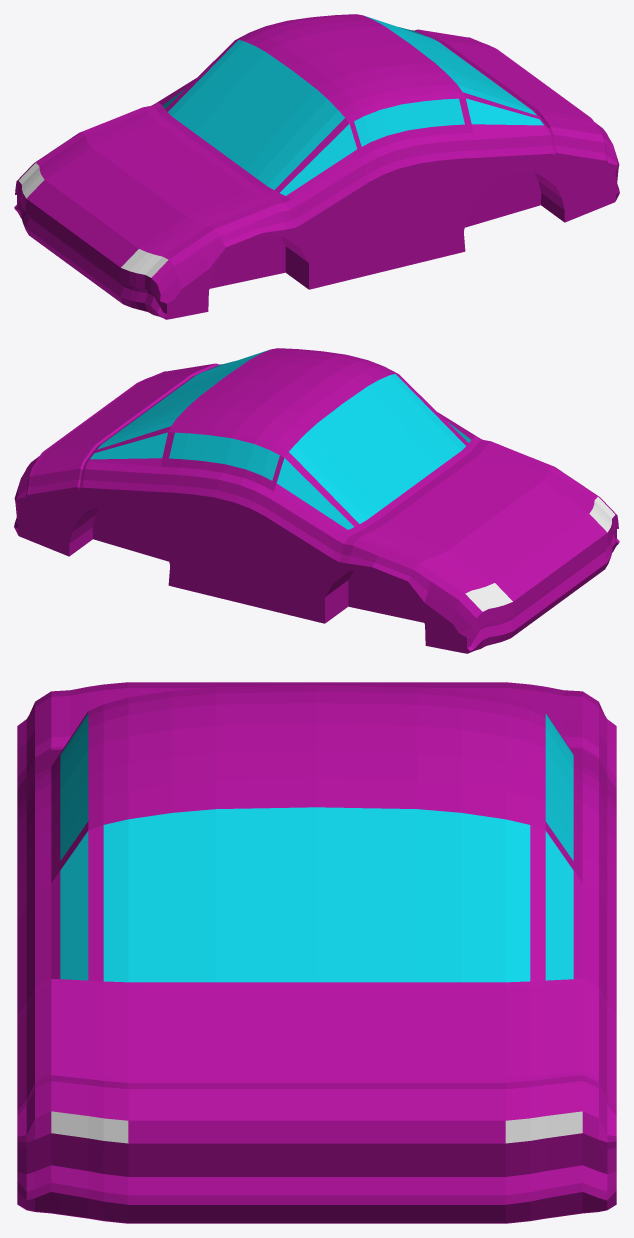
The model's file is carTest1.fbx.
3 views of the same model, one above another, from view 1: azimuth 30°, elevation 25°; view 2: azimuth 150°, elevation 25°; view 3: azimuth 270°, elevation 25° (orthographic). The views are drawn at different scales.
Parts seen in each view (by area): view 1: Plane.005; view 2: Plane.005; view 3: Plane.005.
Boxes of the visible parts, x1,y1,x2,y2 form: Plane.005: (14, 14, 619, 319); Plane.005: (14, 348, 619, 653); Plane.005: (17, 682, 616, 1223).
Bounding box in the file's own units: 760 × 236 × 405.
